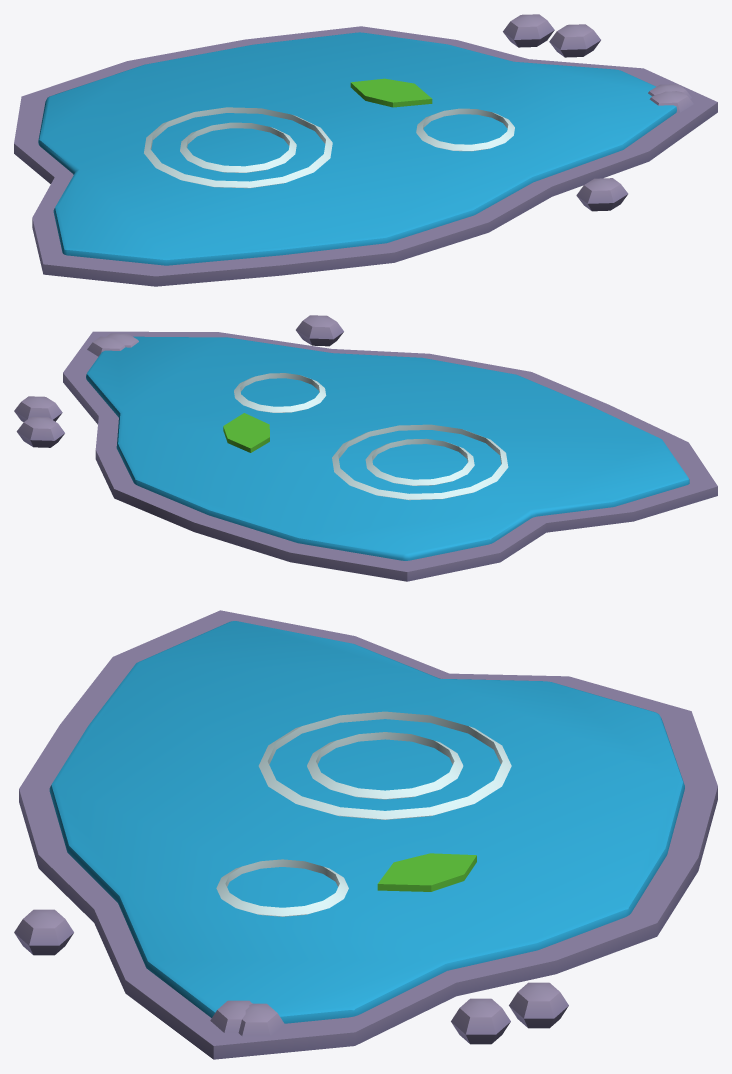
File: hz_puddle.glb
3 renders of one model, top to bottom at view 1: azimuth 30°, elevation 25°; view 2: azimuth 150°, elevation 25°; view 3: azimuth 270°, elevation 25°, orthographic. The views are drawn at different scales.
Visible parts, largest first — view 1: hz_puddle; view 2: hz_puddle; view 3: hz_puddle.
Boxes of the visible parts, x1,y1,x2,y2 form: hz_puddle: [14, 14, 717, 286]; hz_puddle: [14, 315, 717, 581]; hz_puddle: [14, 610, 717, 1059].
Bounding box in the file's own units: 1.71 × 0.071 × 1.17.
